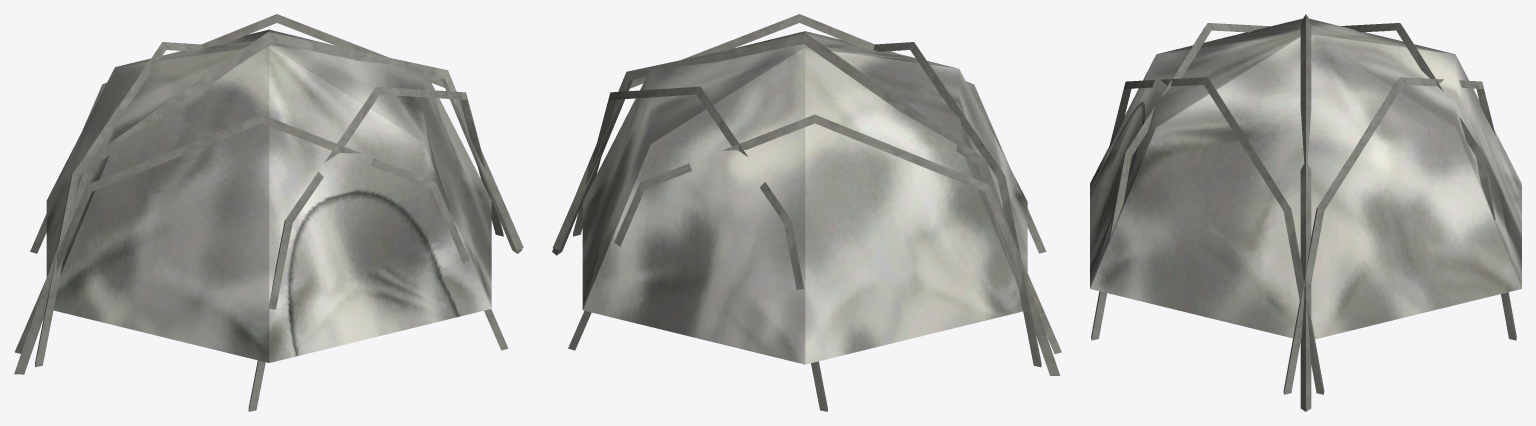
Rendered from eqp_camping_tent_s1_l2.fbx.
The picture shows the model from 3 angles, left to right: view 1: azimuth 30°, elevation 25°; view 2: azimuth 150°, elevation 25°; view 3: azimuth 270°, elevation 25°; orthographic projection. The views are drawn at different scales.
Visible parts, largest first — view 1: mesh_node; view 2: mesh_node; view 3: mesh_node.
Boxes of the visible parts, left/top/right/bottom form: mesh_node: left=14, top=14, right=523, bottom=411; mesh_node: left=552, top=14, right=1061, bottom=411; mesh_node: left=1090, top=14, right=1521, bottom=411.
Bounding box in the file's own units: 4.39 × 2.32 × 3.33.
